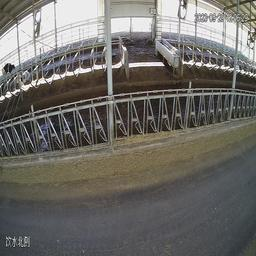cow: (1, 60, 16, 80)
